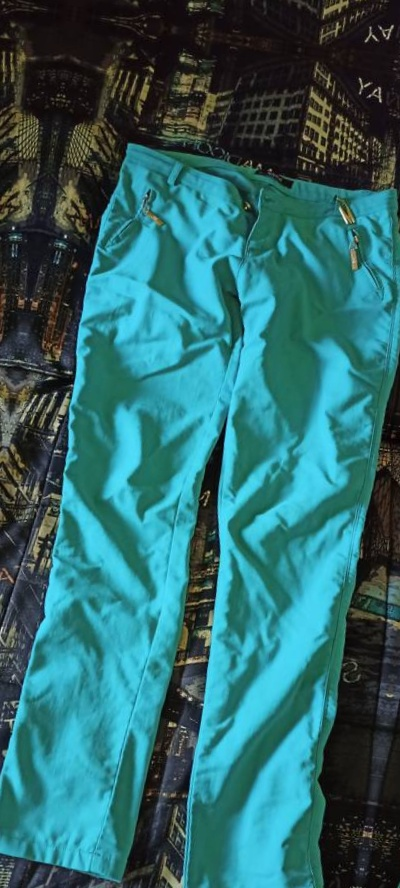Pants: (0, 109, 400, 888), (0, 42, 31, 861), (373, 174, 400, 888)
